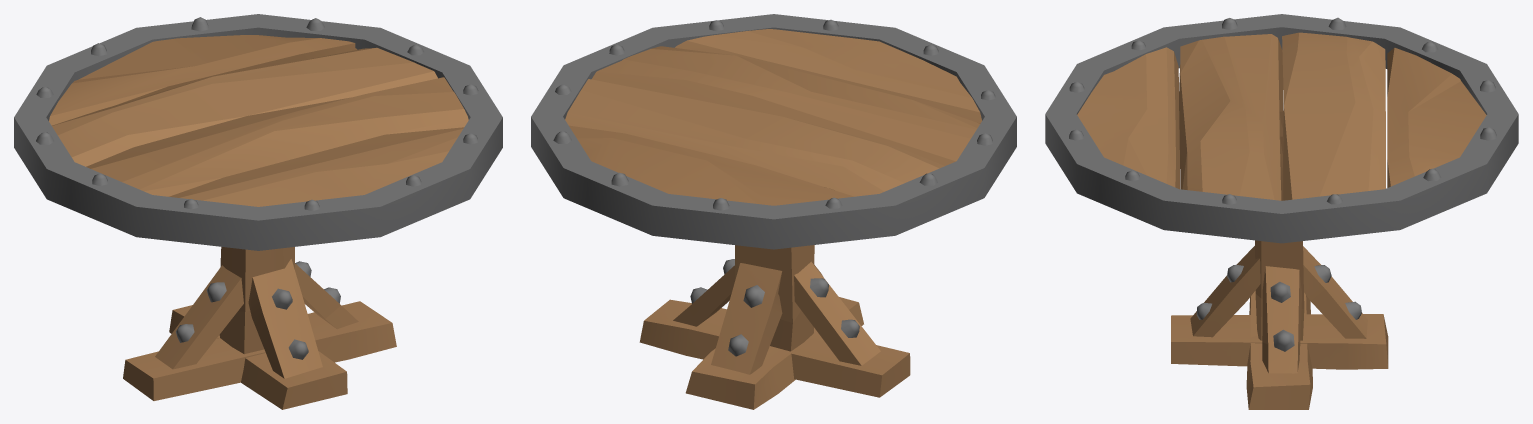
File: Table_F.fbx
The picture shows the model from 3 angles, left to right: view 1: azimuth 30°, elevation 25°; view 2: azimuth 150°, elevation 25°; view 3: azimuth 270°, elevation 25°; orthographic projection. The views are drawn at different scales.
Visible parts, largest first — view 1: Table_F; view 2: Table_F; view 3: Table_F.
Part boxes in pixels (<box>): Table_F: <box>14,14,502,409</box>; Table_F: <box>531,14,1016,409</box>; Table_F: <box>1045,14,1518,409</box>.
Size of the model in its own units: 170 by 98.98 by 170.
